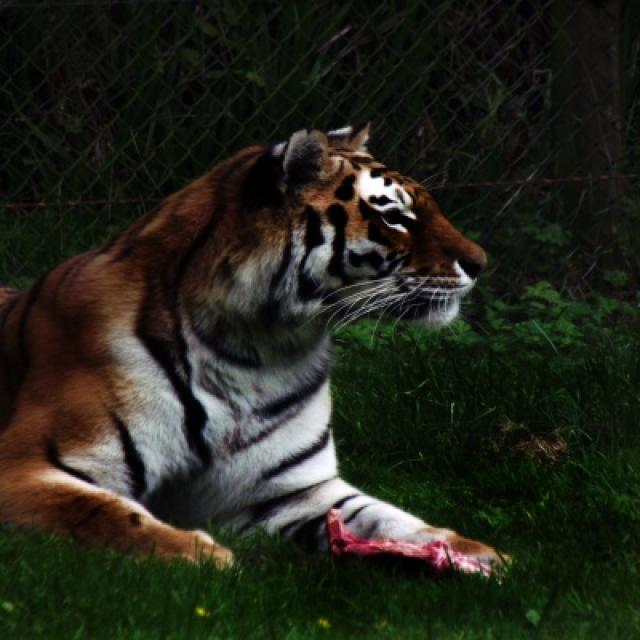Tiger: (1, 121, 503, 572)
